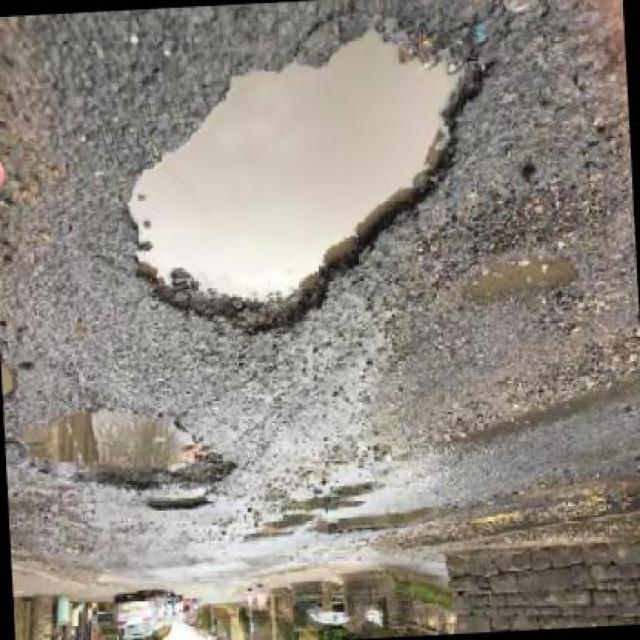pothole: (113, 17, 505, 352), (16, 403, 244, 500), (459, 248, 587, 310), (146, 490, 219, 518), (3, 360, 20, 402)
